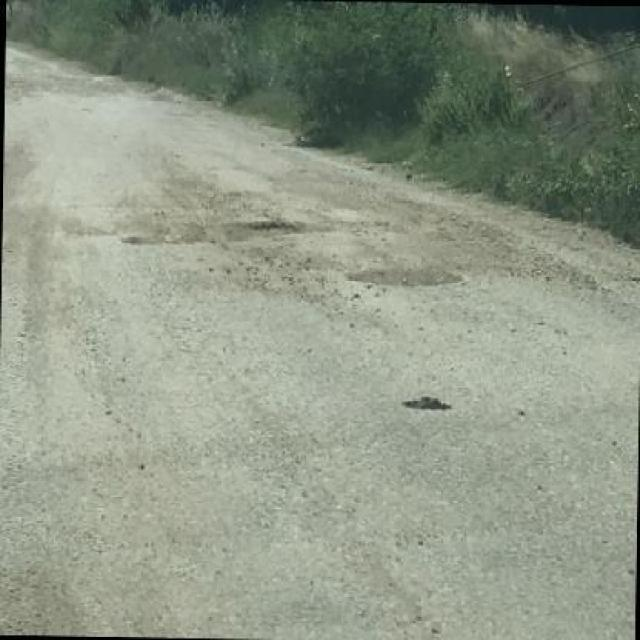pothole: (345, 266, 468, 288), (209, 222, 311, 248)
